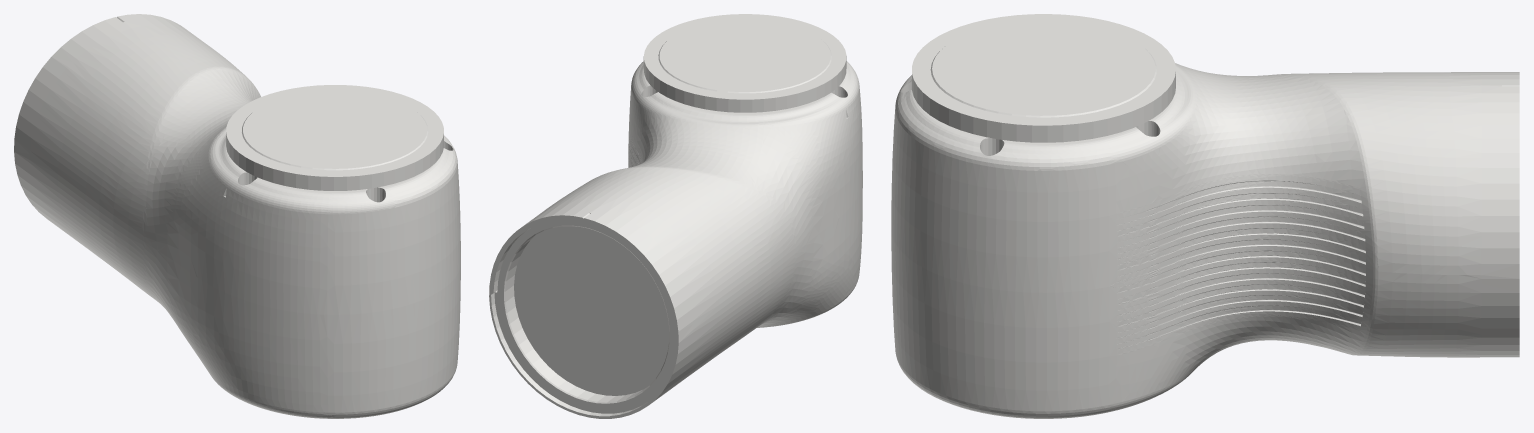
The model's file is AR5_5_08L_W4C4A6_link3_vis.obj.
3 views of the same model, side by side, from view 1: azimuth 30°, elevation 25°; view 2: azimuth 150°, elevation 25°; view 3: azimuth 270°, elevation 25° (orthographic). The views are drawn at different scales.
Visible parts, largest first — view 1: AR5_5_08L_W4C4A6_link3; view 2: AR5_5_08L_W4C4A6_link3; view 3: AR5_5_08L_W4C4A6_link3.
Part boxes in pixels (box(x1,y1,x2,y2)): AR5_5_08L_W4C4A6_link3: box(14, 14, 460, 418); AR5_5_08L_W4C4A6_link3: box(489, 14, 862, 418); AR5_5_08L_W4C4A6_link3: box(891, 14, 1519, 418).
Size of the model in its own units: 0.1102 by 0.1116 by 0.2113.
Materials: 1 (1 with a texture image).
